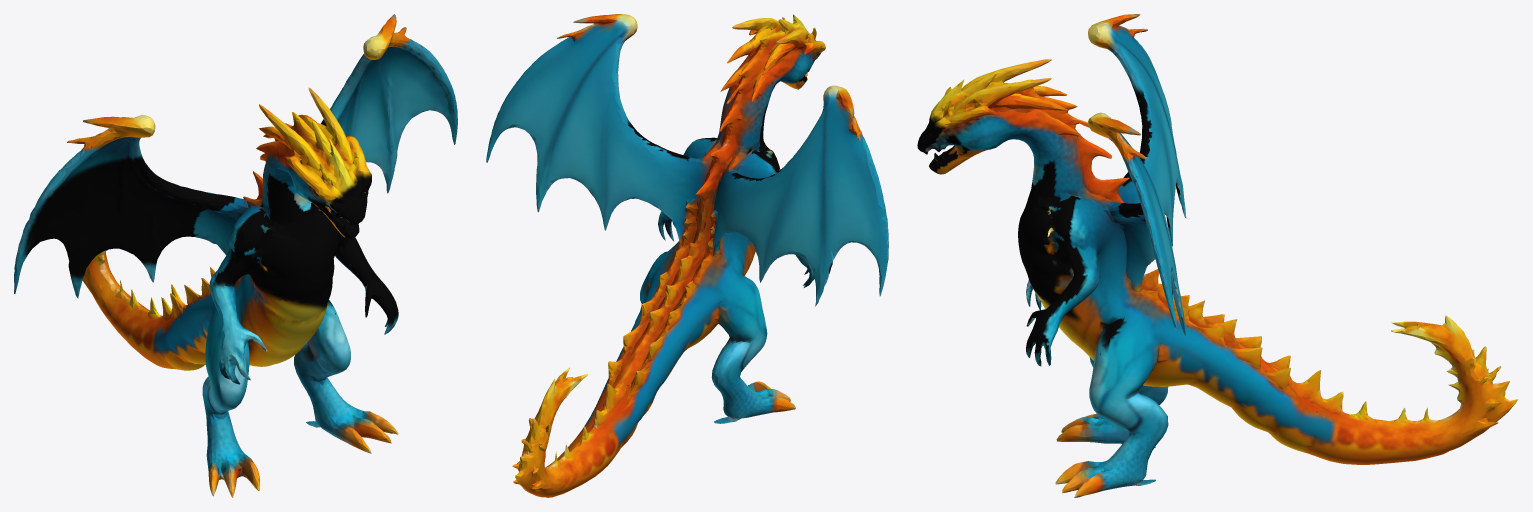
The picture shows the model from 3 angles, left to right: view 1: azimuth 30°, elevation 25°; view 2: azimuth 150°, elevation 25°; view 3: azimuth 270°, elevation 25°; orthographic projection. The views are drawn at different scales.
Parts seen in each view (by area): view 1: Companion_Teen; view 2: Companion_Teen; view 3: Companion_Teen.
Part boxes in pixels (box(x1,y1,x2,y2)): Companion_Teen: box(14, 14, 457, 497); Companion_Teen: box(486, 14, 888, 497); Companion_Teen: box(917, 14, 1518, 497).
Bounding box in the file's own units: 1.58 × 1.39 × 1.89.
Materials: 1 (1 with a texture image).
